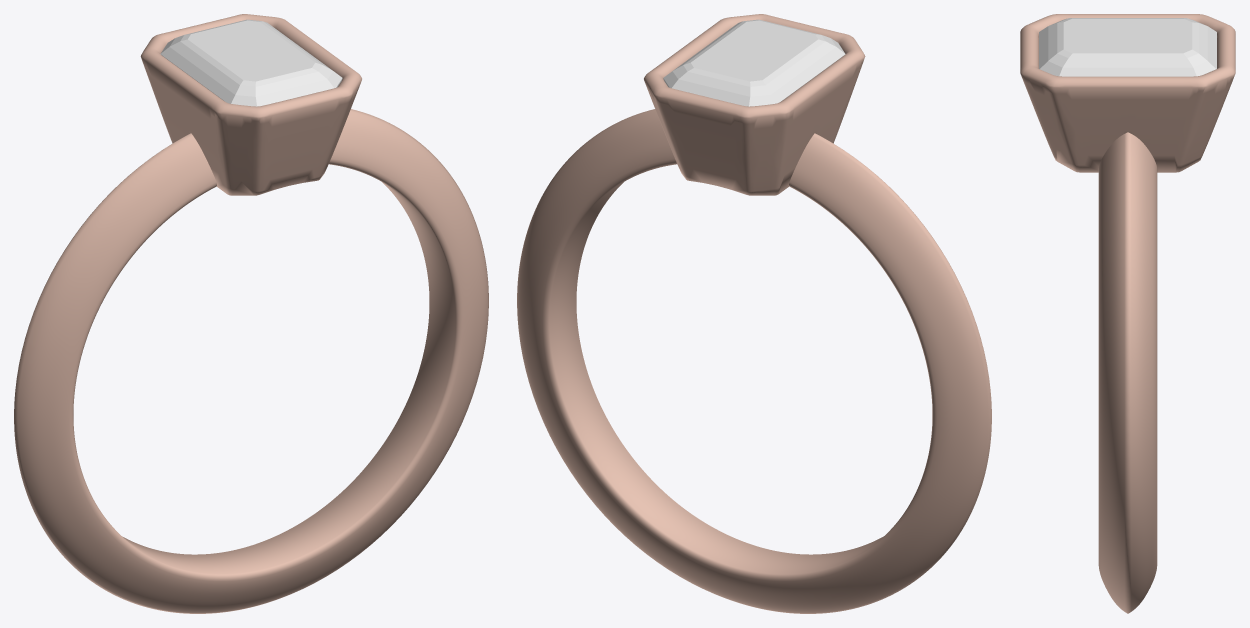
The model's file is diamond-emerald-rosegold-bezelset-knifeedge-solitaire.glb.
3 views of the same model, side by side, from view 1: azimuth 30°, elevation 25°; view 2: azimuth 150°, elevation 25°; view 3: azimuth 270°, elevation 25° (orthographic).
Visible parts, largest first — view 1: metal.001, stone; view 2: metal.001, stone; view 3: metal.001, stone.
Boxes of the visible parts, x1=… form: metal.001: x1=14, y1=14, x2=488, y2=613; stone: x1=160, y1=19, x2=342, y2=106; metal.001: x1=517, y1=14, x2=991, y2=613; stone: x1=663, y1=19, x2=845, y2=106; metal.001: x1=1020, y1=14, x2=1235, y2=613; stone: x1=1039, y1=18, x2=1216, y2=76.
Bounding box in the file's own units: 20.5 × 22.94 × 8.11.
